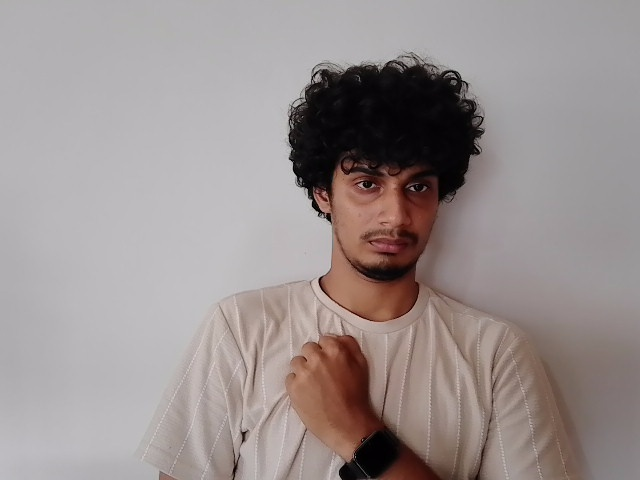sorry: (201, 272, 397, 441)
